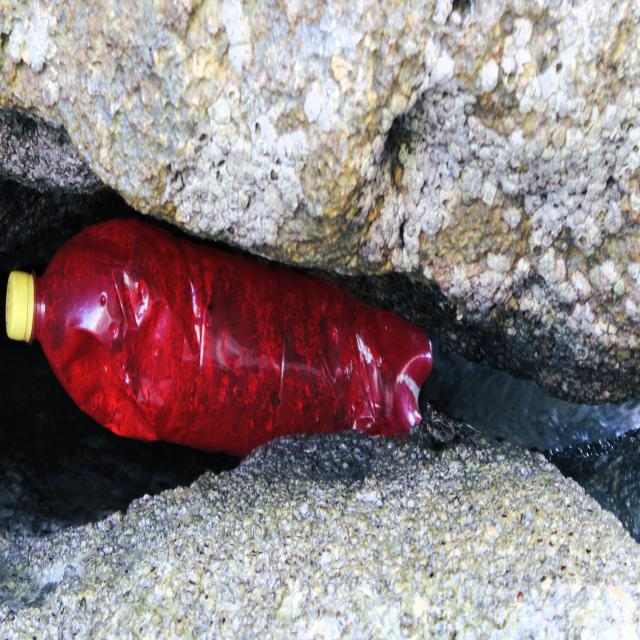Bottle: (6, 215, 437, 460)
